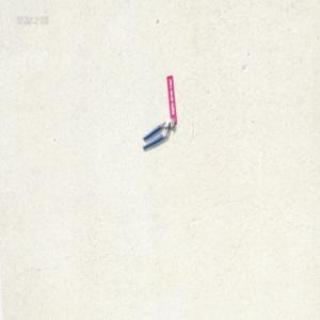LuggageTagtrack_idkeyframe: (166, 75, 177, 126)
Pliertrack_idkeyframe: (141, 118, 174, 152)
